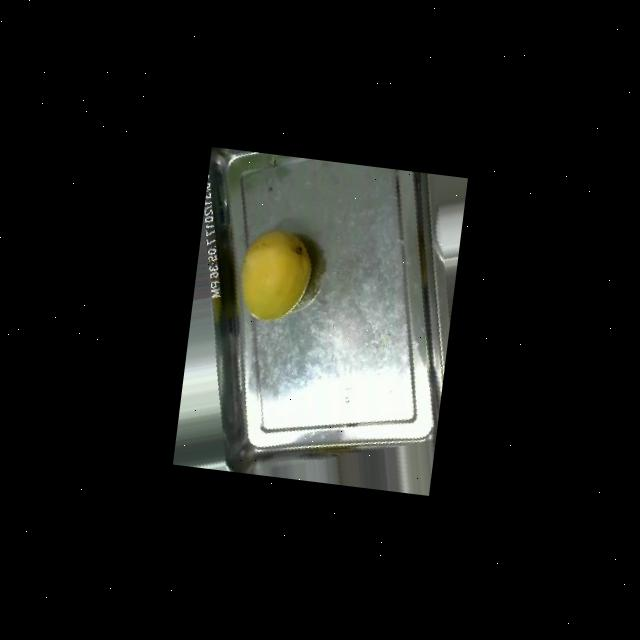Mango: (234, 224, 316, 324)
